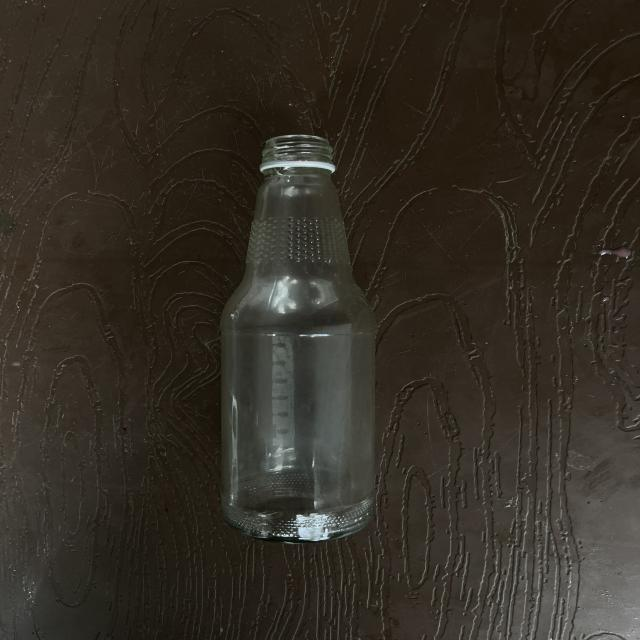Glass_Bottle: (221, 135, 375, 542)
